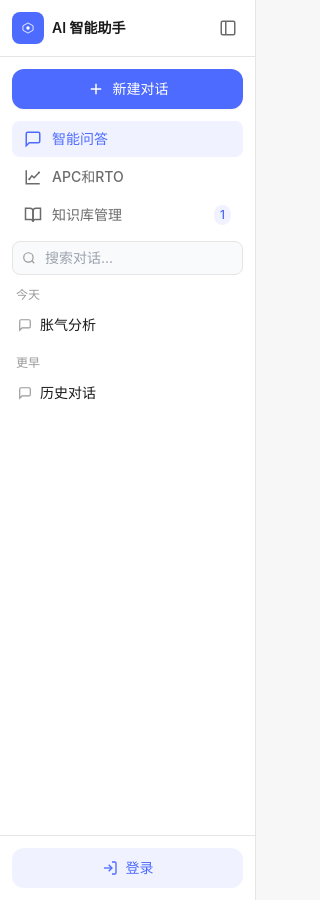
Scenario: Sidebar › 搜索过滤对话
Type "胀气" into the field with placeholder "搜索对话..." at (128, 258), box [12,241,243,275]
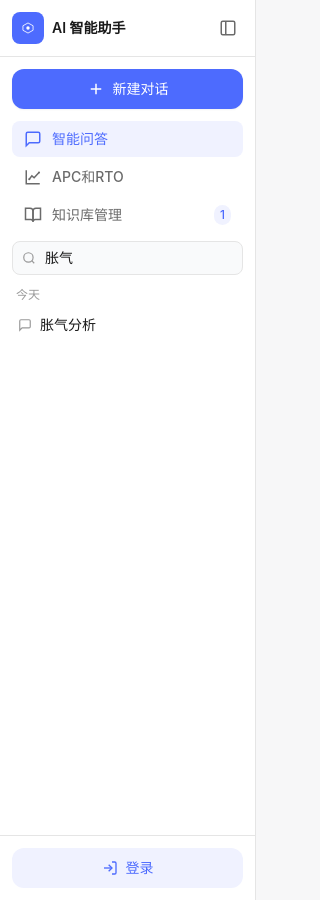
Check: the text "胀气分析" is shown, box [40,316,96,333]
Check: the button "历史对话" is gone
